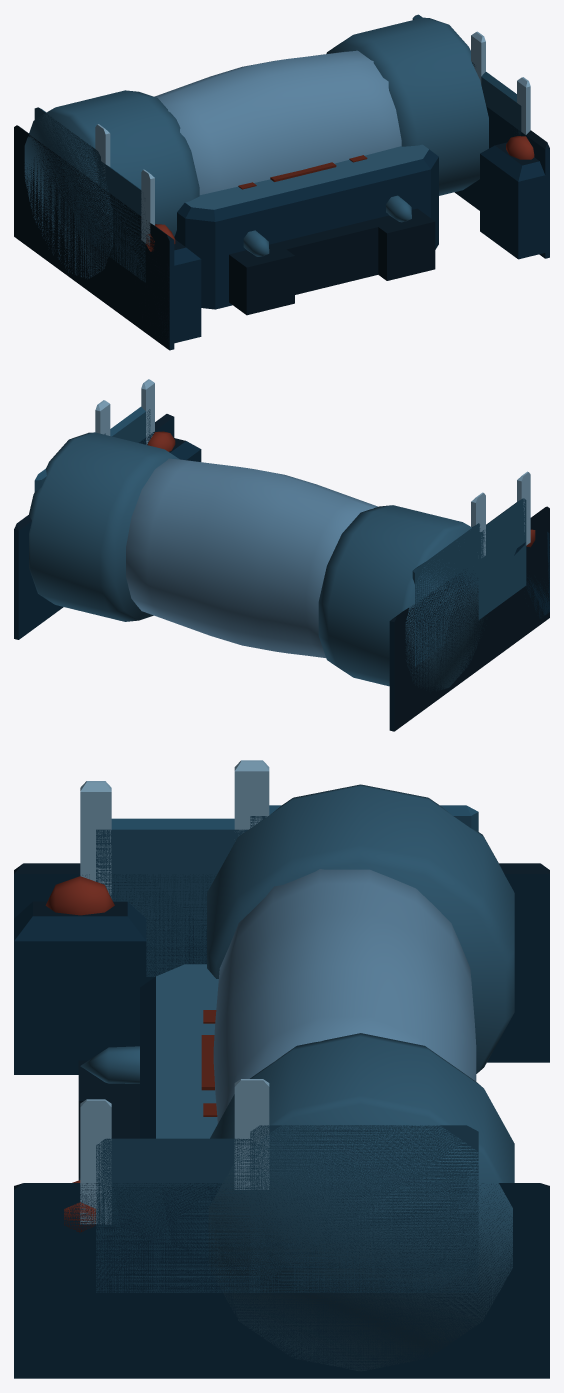
The model's file is newshv-91.glb.
The picture shows the model from 3 angles, top to bottom: view 1: azimuth 30°, elevation 25°; view 2: azimuth 150°, elevation 25°; view 3: azimuth 270°, elevation 25°; orthographic projection. The views are drawn at different scales.
Visible parts, largest first — view 1: newshv-91; view 2: newshv-91; view 3: newshv-91.
Boxes of the visible parts, box(x1,y1,x2,y2) form: newshv-91: box(14, 14, 549, 350); newshv-91: box(14, 379, 549, 731); newshv-91: box(14, 760, 549, 1378).
Size of the model in its own units: 2 by 0.9 by 1.42.
